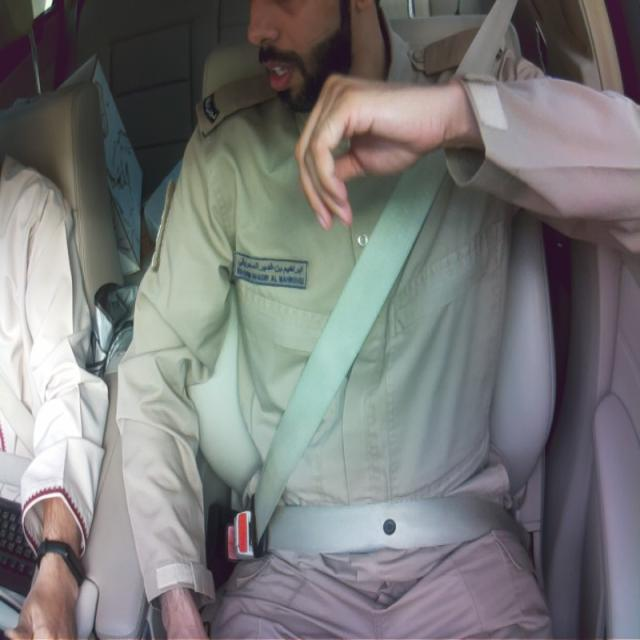seatbelt: (252, 152, 522, 552), (459, 0, 514, 76)
